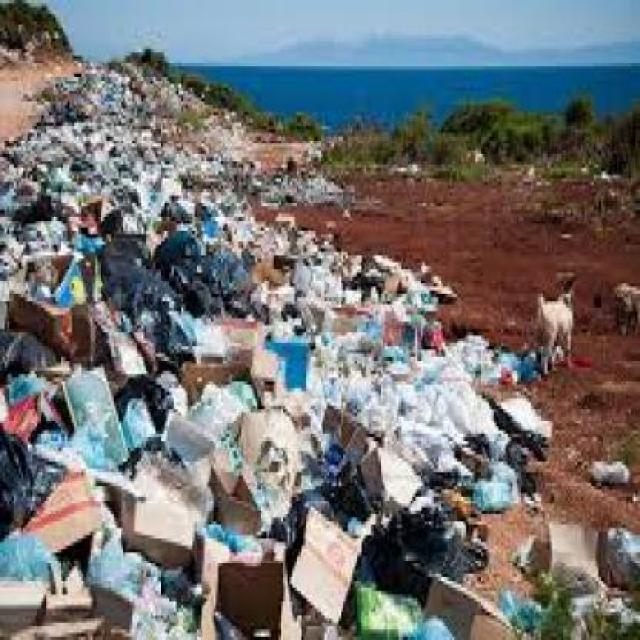garbage: (72, 60, 283, 637), (0, 137, 151, 637), (302, 234, 473, 636), (471, 378, 596, 636), (180, 126, 287, 284), (45, 77, 129, 172)
